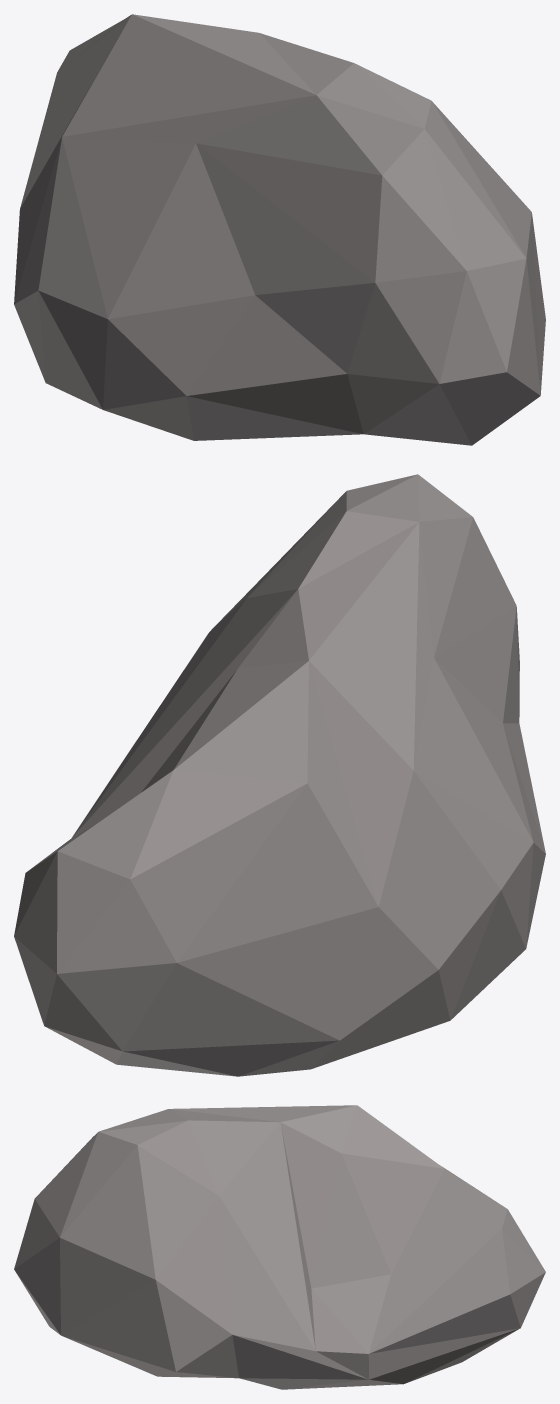
File: SM_Rock_L_03.fbx
3 renders of one model, top to bottom at view 1: azimuth 30°, elevation 25°; view 2: azimuth 150°, elevation 25°; view 3: azimuth 270°, elevation 25°, orthographic. The views are drawn at different scales.
Parts seen in each view (by area): view 1: SM_Rock_L_03; view 2: SM_Rock_L_03; view 3: SM_Rock_L_03.
Part boxes in pixels (x1,y1,x2,y2): SM_Rock_L_03: (14,14,545,445); SM_Rock_L_03: (14,474,545,1076); SM_Rock_L_03: (14,1105,545,1389).
Size of the model in its own units: 560 by 505 by 952.
